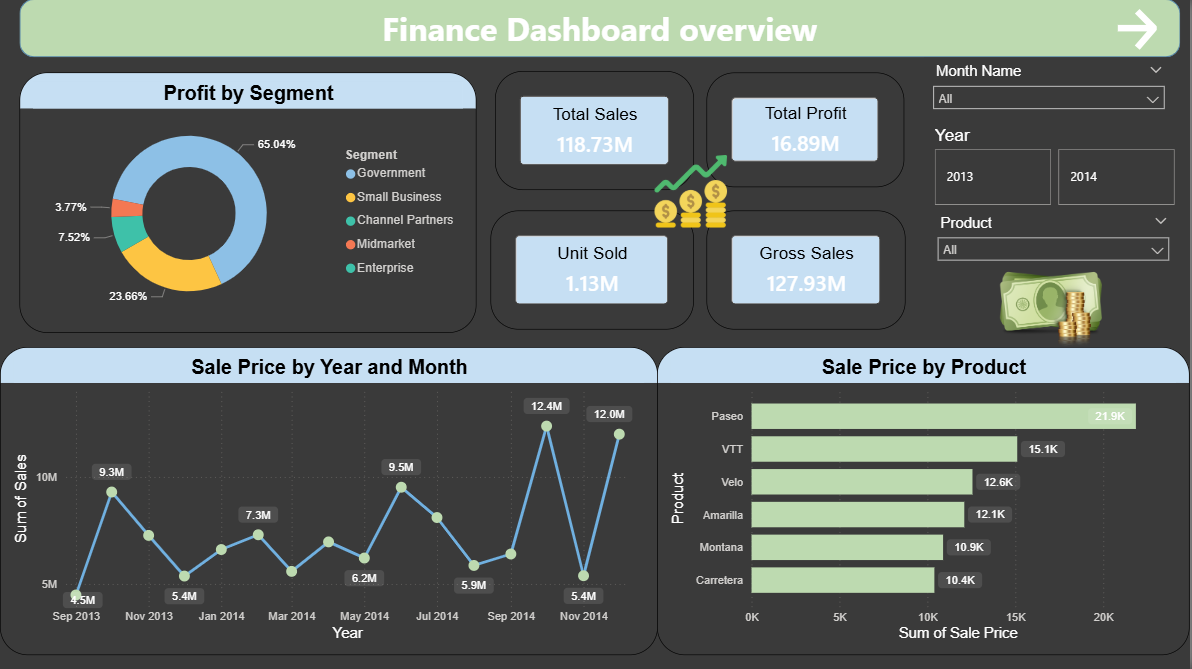

The page's visual inventory and layout, read from the dashboard file:
{"tool":"powerbi","page":{"name":"overview","canvas":[1280,720],"ordinal":1},"visuals":[{"type":"cardVisual","fields":{"Data":["Sum(financials. Sales)"]},"box":[531.8,78.2,214.3,128.3],"z":0},{"type":"cardVisual","fields":{"Data":["Sum(financials.Profit)"]},"box":[760.2,79.8,212.7,123.6],"z":1000},{"type":"cardVisual","fields":{"Data":["Sum(financials.Units Sold)"]},"box":[527.1,226.8,219,128.3],"z":2000},{"type":"cardVisual","fields":{"Data":["Sum(financials.Gross Sales)"]},"box":[760.2,226.8,214.3,128.3],"z":3000},{"type":"shape","box":[20.3,0,1248.2,62.6],"z":4000},{"type":"lineChart","title":"Sale Price by Year and Month","fields":{"Y":["Sum(financials. Sales)"],"Category":["financials.Date.Variation.Date Hierarchy.Year","financials.Date.Variation.Date Hierarchy.Quarter","financials.Date.Variation.Date Hierarchy.Month"]},"box":[0,374.5,707.2,331.1],"z":5000},{"type":"barChart","title":" Sale Price by Product","fields":{"Category":["financials.Product"],"Y":["Sum(financials.Sale Price)"]},"box":[707,373.8,572.5,331.6],"z":6000},{"type":"donutChart","title":" Profit by Segment","fields":{"Y":["Sum(financials.Profit)"],"Category":["financials.Segment"]},"box":[20.3,79.8,491.1,280],"z":7000},{"type":"advancedSlicerVisual","fields":{"Values":["financials.Date.Variation.Date Hierarchy.Year"]},"box":[999.8,135,268.4,91.6],"z":8000},{"type":"slicer","fields":{"Values":["financials.Month Name"]},"box":[993.4,62.7,268.4,65.9],"z":9000},{"type":"image","box":[636.6,167.4,211.2,78.2],"z":10000},{"type":"image","box":[1000.7,291.9,260.1,81.4],"z":11000},{"type":"actionButton","box":[1195.6,5.8,83.7,52.6],"z":12000},{"type":"slicer","fields":{"Values":["financials.Product"]},"box":[998.9,225.9,268.7,64.3],"z":13000}]}

Visuals, with their boxes in screenshot pixels (x1, y1, x2, y2), scaled from the page's 1280x720 canvas onto the 1192x669 screenshot:
cardVisual - Sum(financials. Sales): pyautogui.locateOnScreen(495, 73, 695, 192)
cardVisual - Sum(financials.Profit): pyautogui.locateOnScreen(708, 74, 906, 189)
cardVisual - Sum(financials.Units Sold): pyautogui.locateOnScreen(491, 211, 695, 330)
cardVisual - Sum(financials.Gross Sales): pyautogui.locateOnScreen(708, 211, 908, 330)
shape: pyautogui.locateOnScreen(19, 0, 1181, 58)
"Sale Price by Year and Month" lineChart: pyautogui.locateOnScreen(0, 348, 659, 656)
" Sale Price by Product" barChart: pyautogui.locateOnScreen(658, 347, 1191, 655)
" Profit by Segment" donutChart: pyautogui.locateOnScreen(19, 74, 476, 334)
advancedSlicerVisual - financials.Date.Variation.Date Hierarchy.Year: pyautogui.locateOnScreen(931, 125, 1181, 211)
slicer - financials.Month Name: pyautogui.locateOnScreen(925, 58, 1175, 119)
image: pyautogui.locateOnScreen(593, 156, 790, 228)
image: pyautogui.locateOnScreen(932, 271, 1174, 347)
actionButton: pyautogui.locateOnScreen(1113, 5, 1191, 54)
slicer - financials.Product: pyautogui.locateOnScreen(930, 210, 1180, 270)
